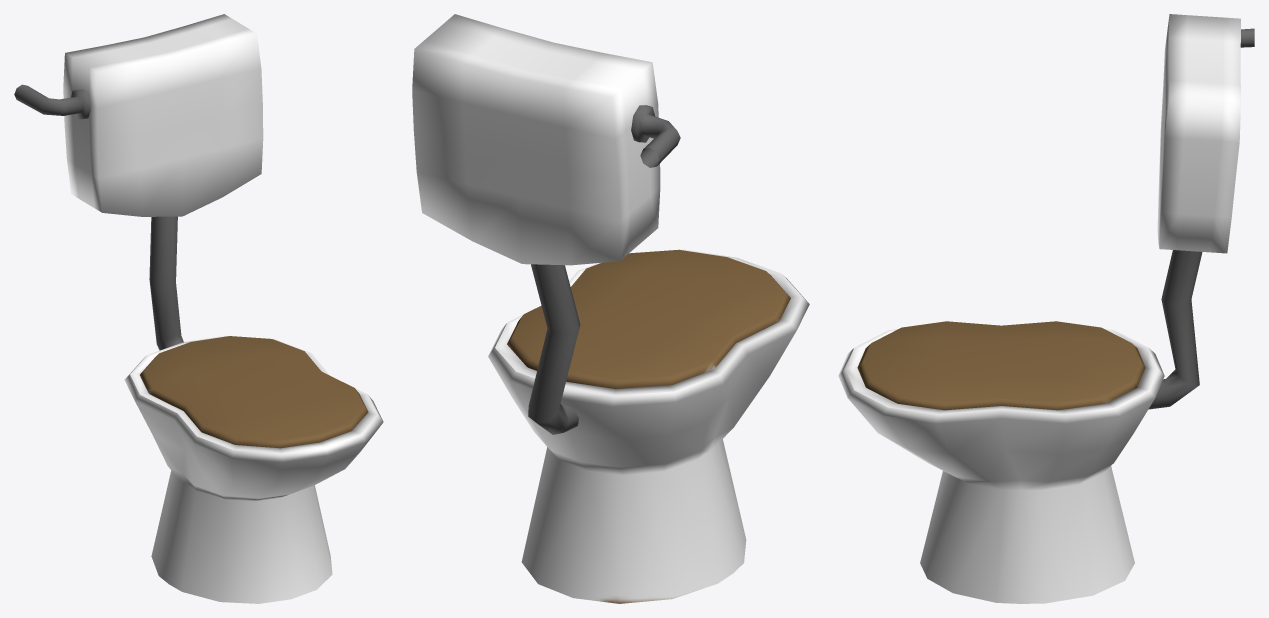
Rendered from toilet.fbx.
3 views of the same model, side by side, from view 1: azimuth 30°, elevation 25°; view 2: azimuth 150°, elevation 25°; view 3: azimuth 270°, elevation 25° (orthographic). The views are drawn at different scales.
Parts seen in each view (by area): view 1: toilet_body, toilet_seat; view 2: toilet_body, toilet_seat; view 3: toilet_body, toilet_seat.
Part boxes in pixels (x1,y1,x2,y2): toilet_body: [14, 14, 383, 603]; toilet_seat: [140, 336, 368, 448]; toilet_body: [412, 14, 809, 603]; toilet_seat: [507, 249, 790, 388]; toilet_body: [838, 14, 1254, 603]; toilet_seat: [857, 321, 1145, 410].
Bounding box in the file's own units: 92.39 × 191 × 142.
